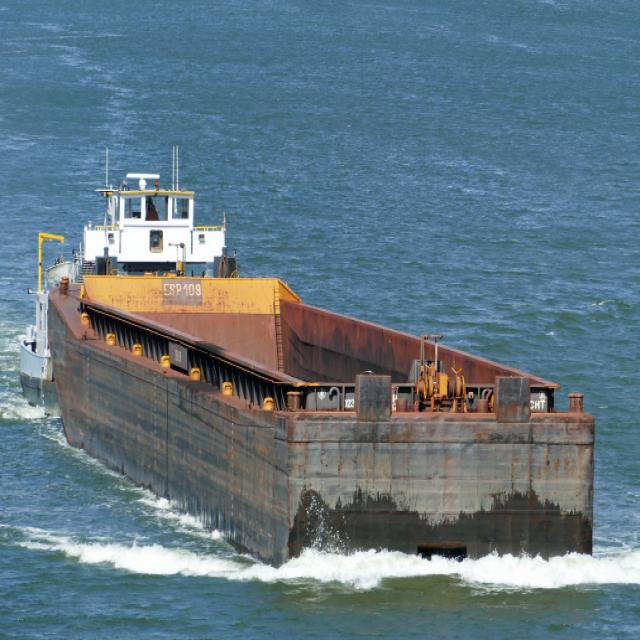tugboat: (12, 144, 250, 443)
